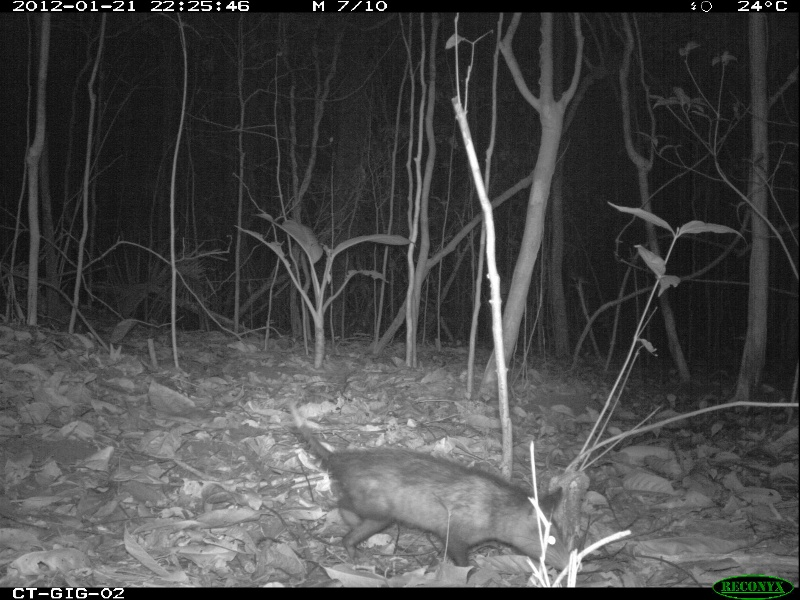opossum: (287, 401, 587, 580)
